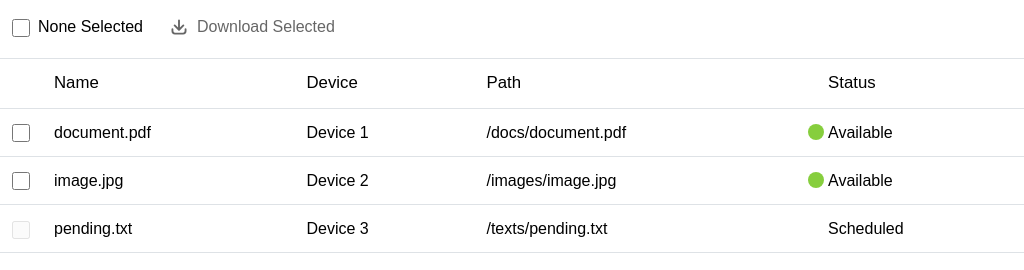
Scenario: FileTable › should handle file selection and display correct selection count
Expected: the text "None Selected" is shown, [30, 18, 143, 35]
// Select first available file
Click the checkbox in the row of "Device 1". click: (21, 133)
box: [12, 124, 30, 142]
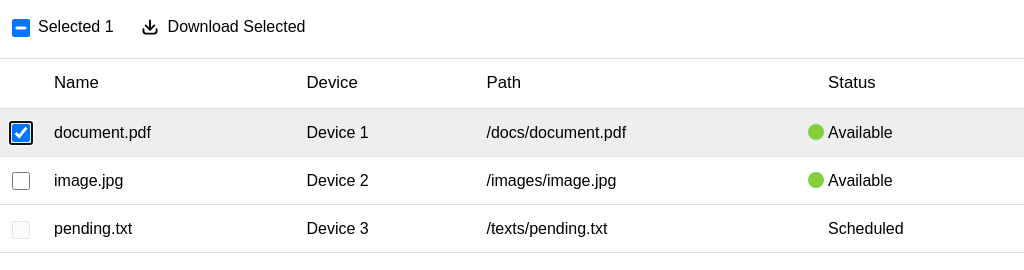
Expected: the text "Selected 1" is shown, [30, 18, 114, 35]
Click the checkbox named "Select all available files". click: (21, 28)
box: [12, 19, 30, 37]
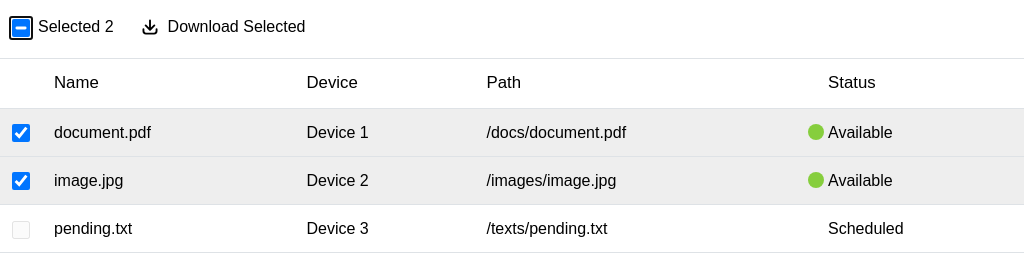
Expected: the text "Selected 2" is shown, [30, 18, 114, 35]
